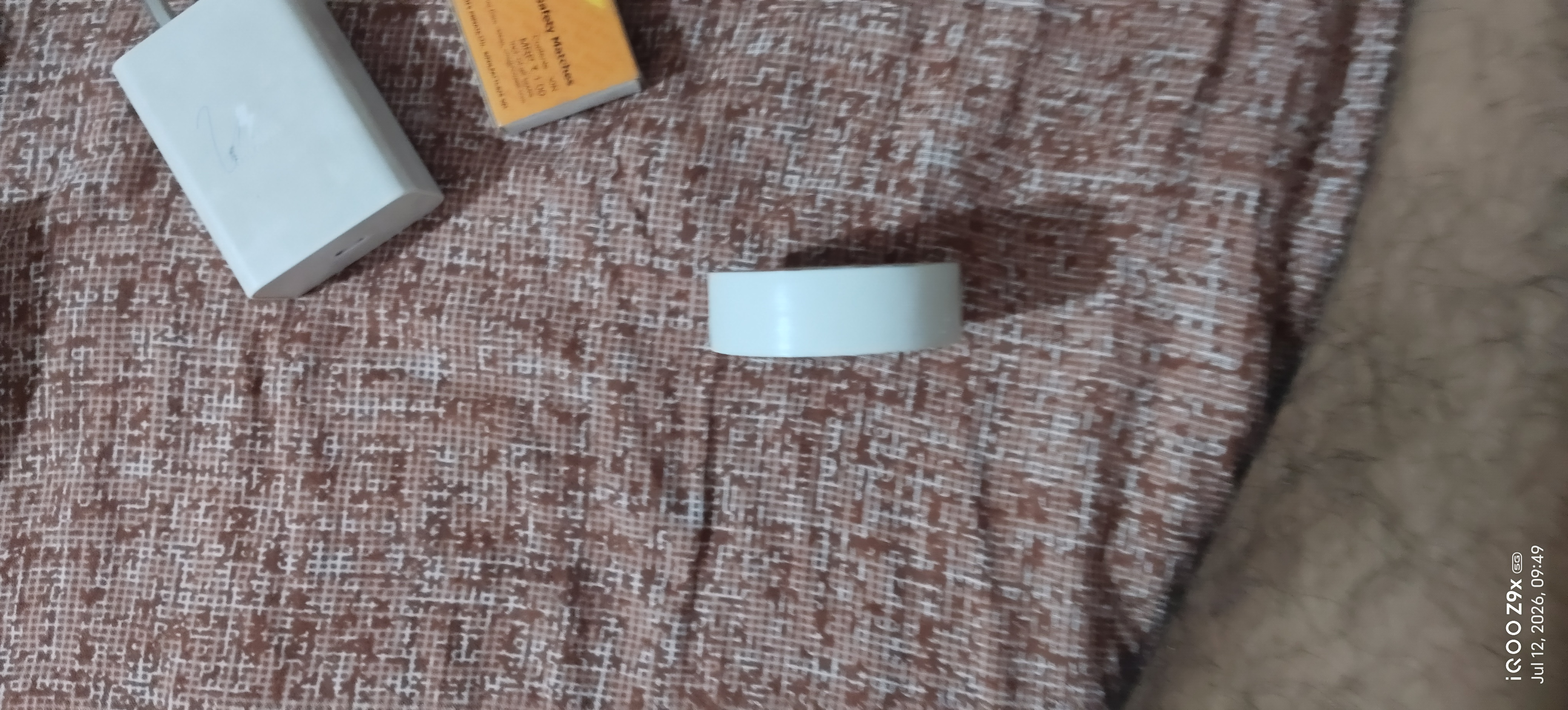charger: (97, 0, 467, 343)
matchbox: (424, 0, 670, 147)
tape_roll: (680, 227, 973, 393)
